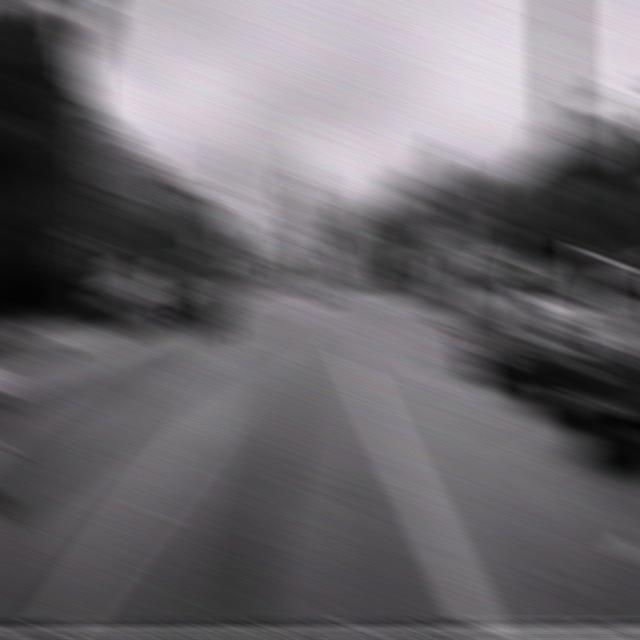pedestrianCrossing: (380, 236, 411, 268)
yield: (302, 225, 328, 248)
